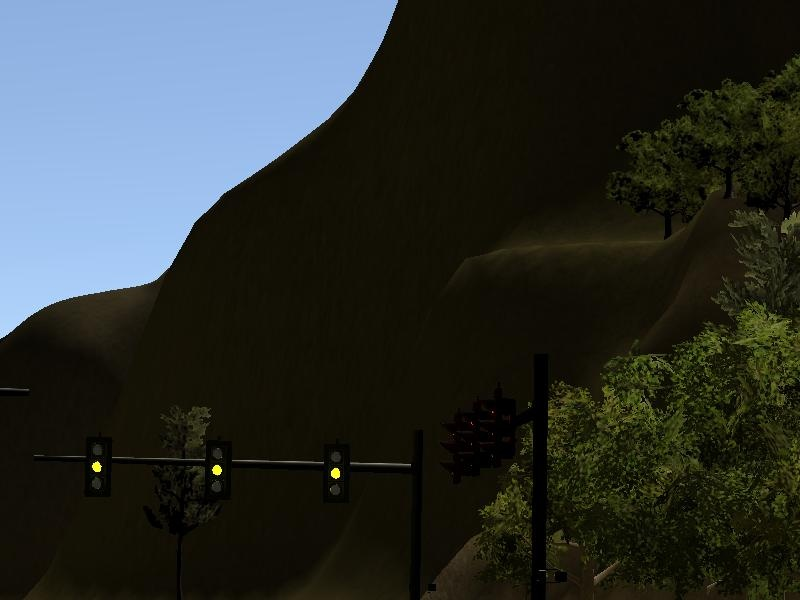yellow: (321, 444, 351, 504), (201, 442, 231, 502), (81, 438, 111, 498)
